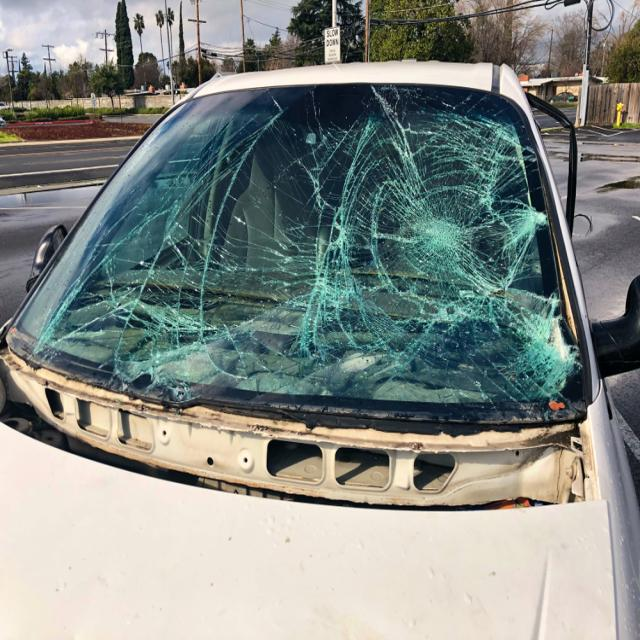glass shatter: (6, 84, 588, 422)
